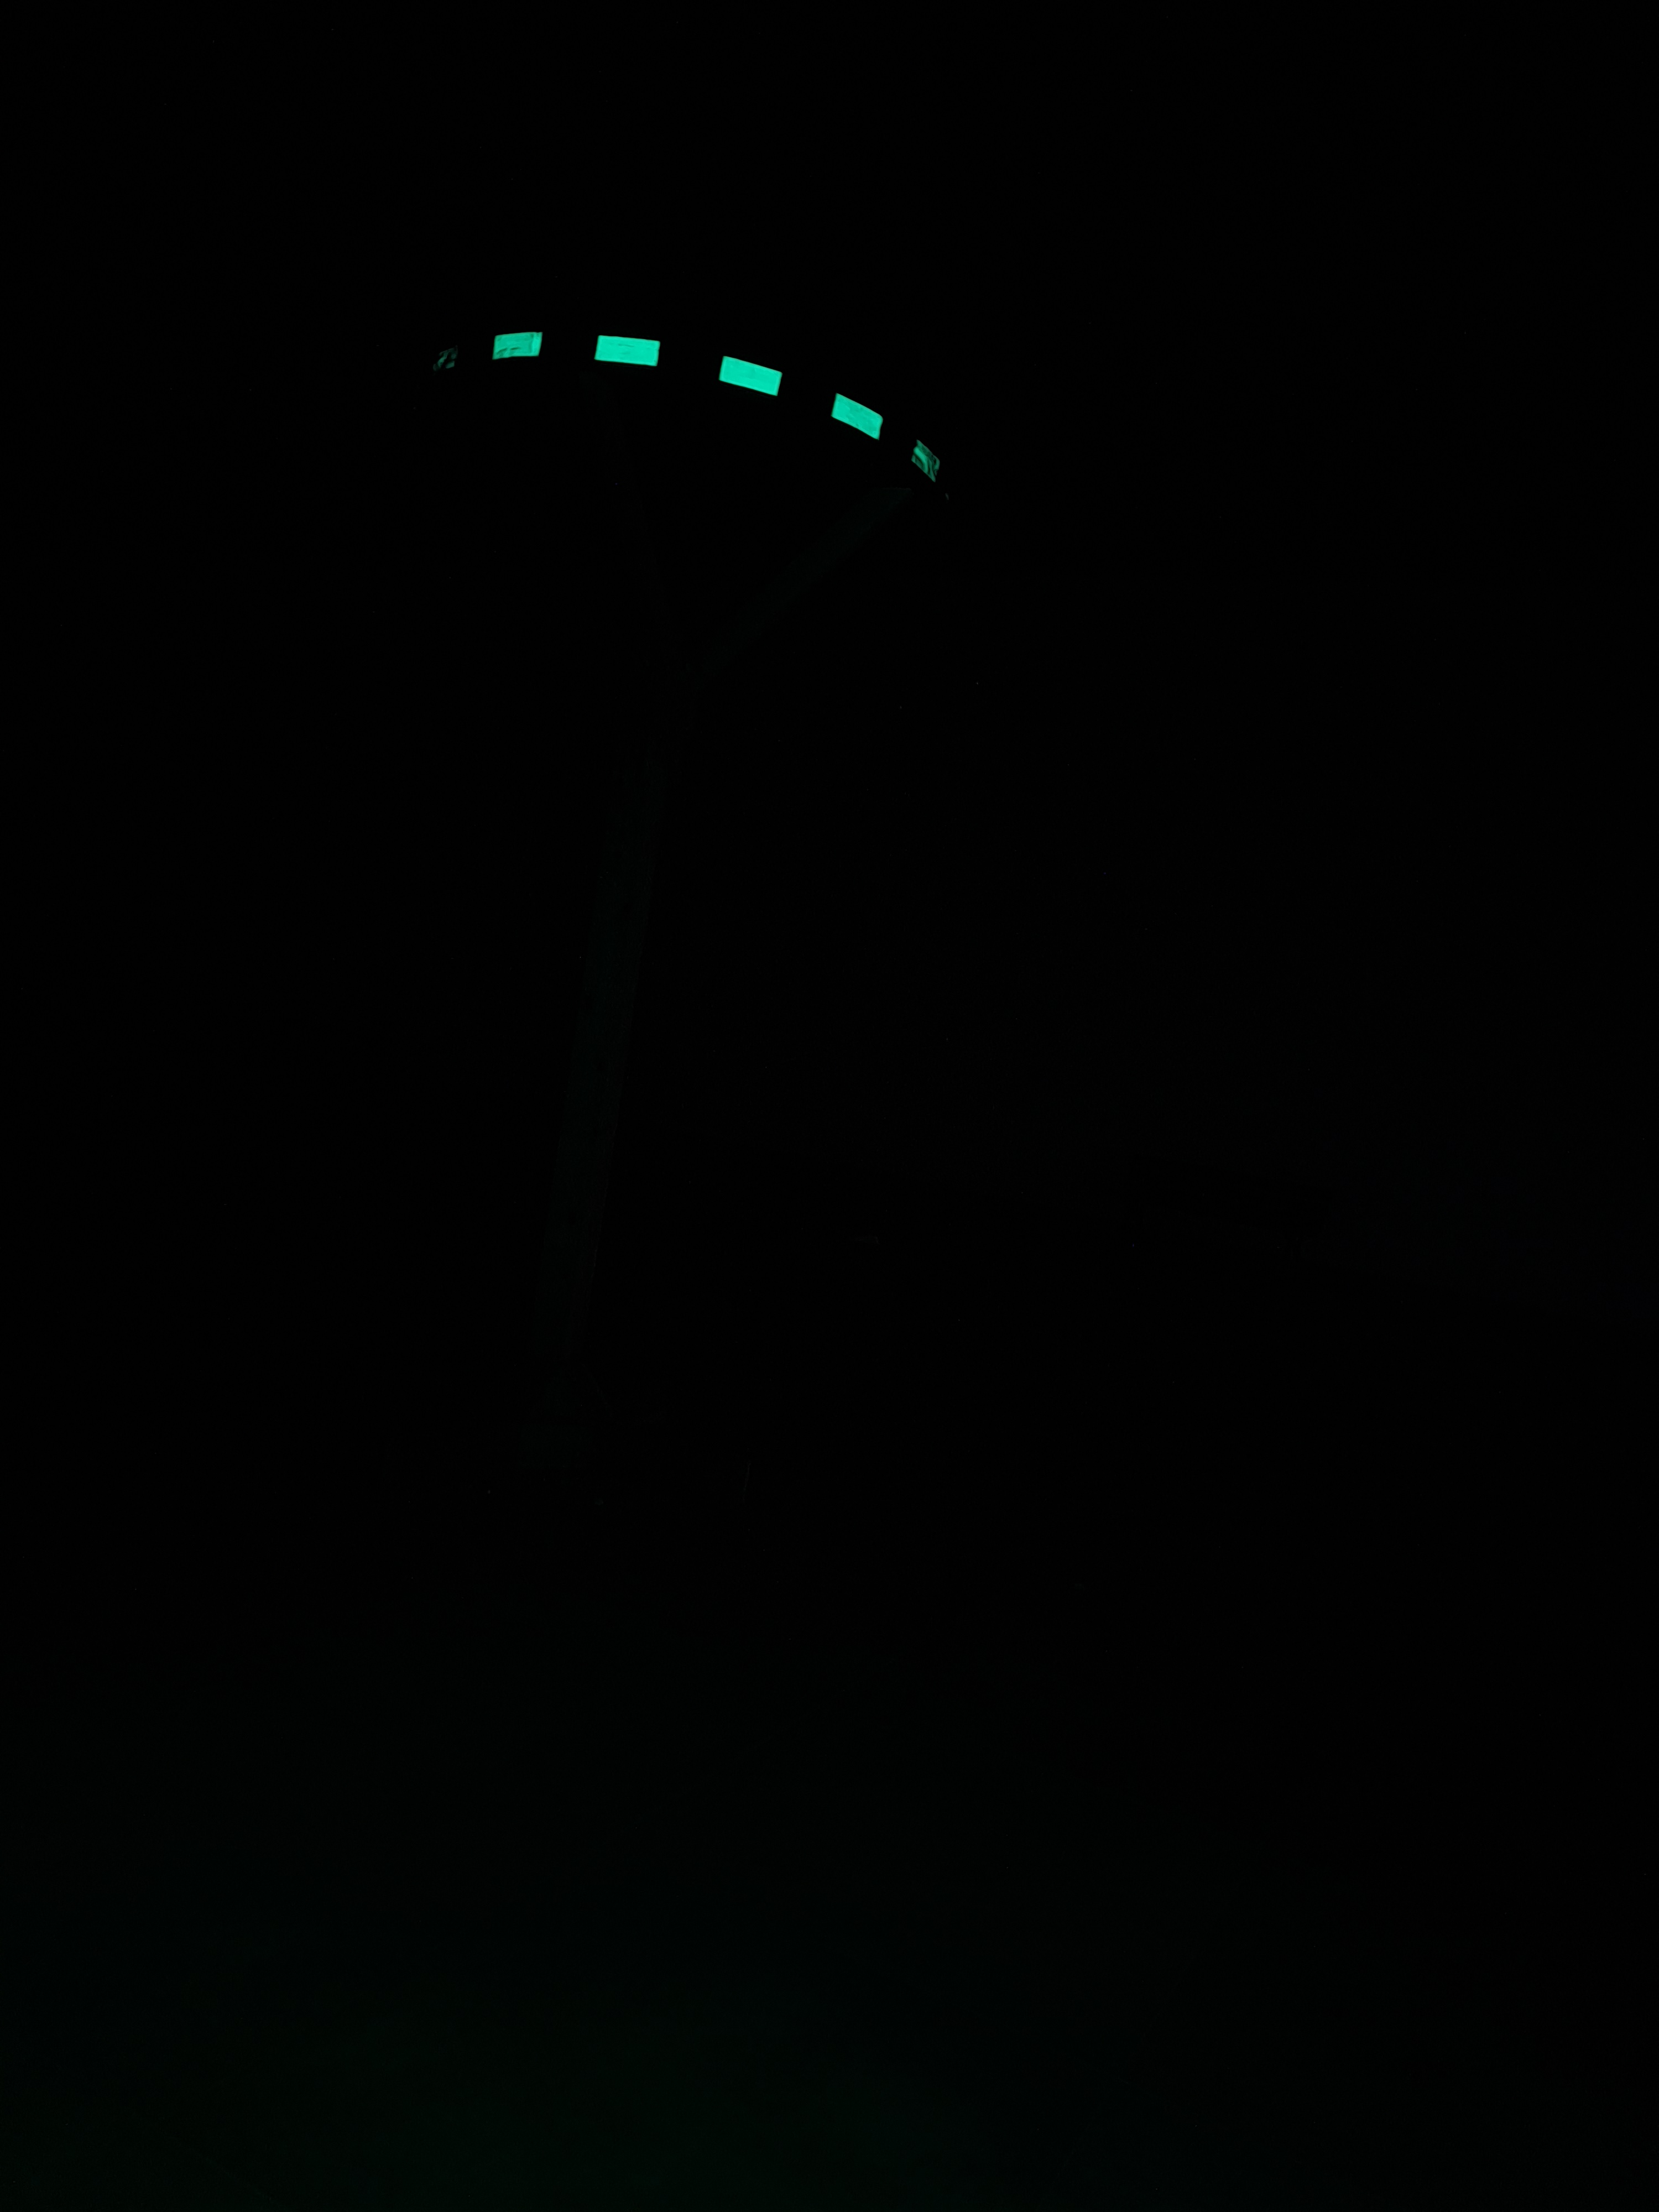hoop: (425, 329, 945, 488)
